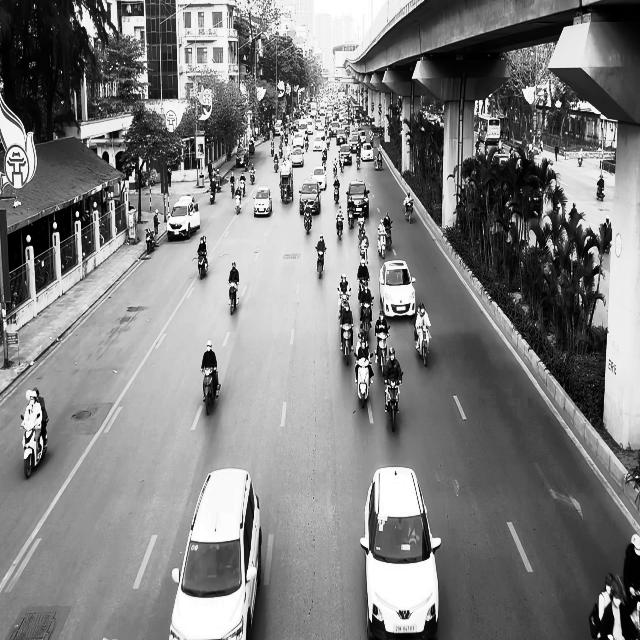bus: (478, 113, 501, 145)
car: (169, 468, 262, 640), (360, 466, 441, 639), (379, 259, 416, 318), (167, 194, 200, 240), (346, 180, 370, 218), (298, 178, 320, 214), (253, 186, 272, 217), (236, 148, 248, 167)
motorbike: (20, 414, 48, 478), (383, 372, 402, 432), (354, 352, 373, 408), (200, 366, 221, 415), (375, 324, 390, 376), (414, 323, 431, 366), (339, 322, 354, 365), (337, 288, 351, 318), (228, 280, 239, 314), (315, 246, 326, 278), (303, 202, 312, 234), (198, 252, 208, 279), (377, 230, 386, 258), (145, 228, 155, 253), (403, 198, 413, 223), (347, 204, 355, 228), (596, 182, 605, 200), (336, 217, 343, 239), (333, 181, 340, 203)
